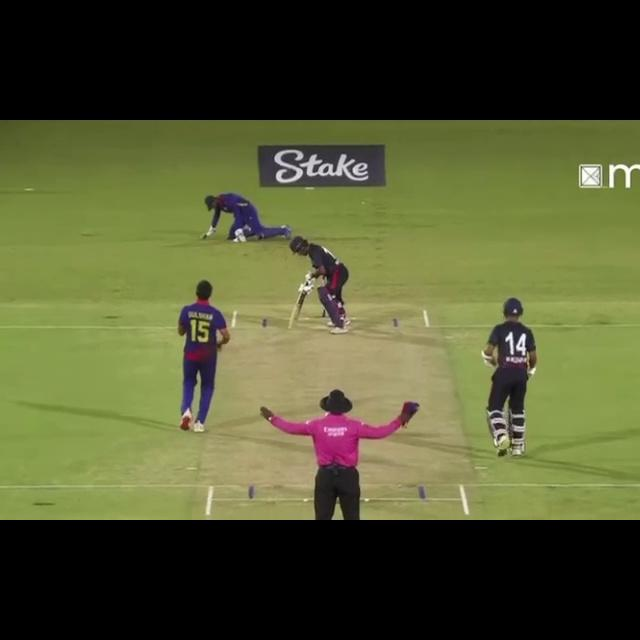umpire: (256, 386, 427, 516)
